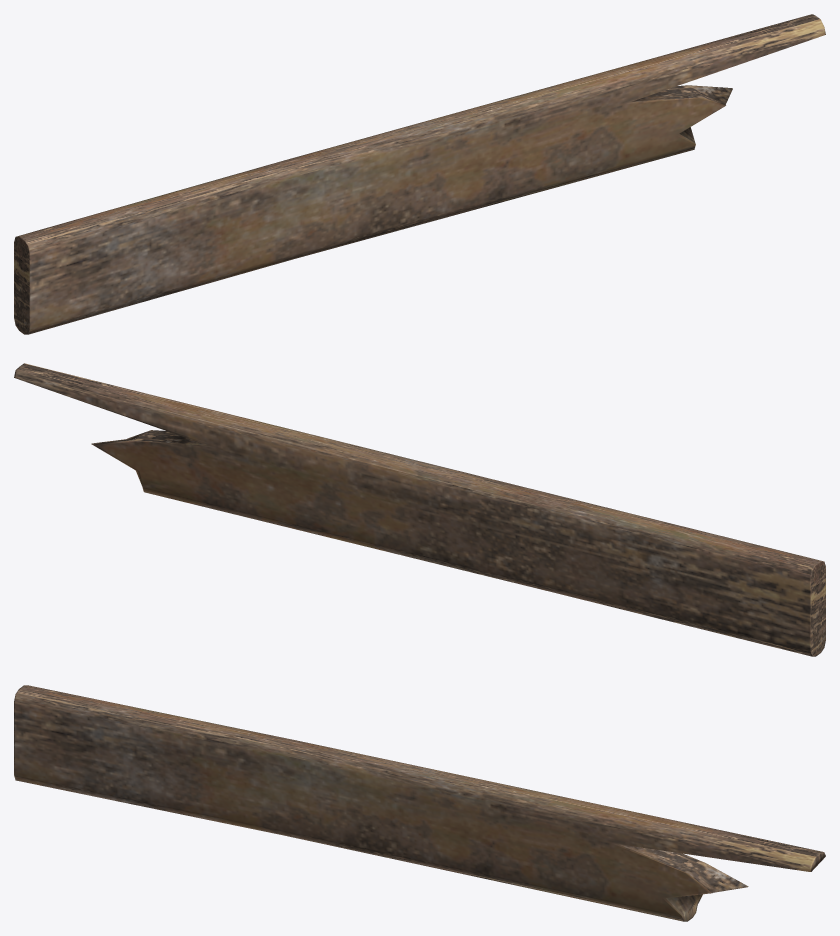
Rendered from WoodenBoard_Broken.fbx.
3 views of the same model, one above another, from view 1: azimuth 30°, elevation 25°; view 2: azimuth 150°, elevation 25°; view 3: azimuth 330°, elevation 25° (orthographic). The views are drawn at different scales.
Parts seen in each view (by area): view 1: WoodenBoard_Broken_LOD0; view 2: WoodenBoard_Broken_LOD0; view 3: WoodenBoard_Broken_LOD0.
Part boxes in pixels (x1,y1,x2,y2): WoodenBoard_Broken_LOD0: [14, 14, 825, 334]; WoodenBoard_Broken_LOD0: [14, 363, 825, 656]; WoodenBoard_Broken_LOD0: [14, 685, 825, 921].
Size of what is drawn, in the model's own units: 54.48 by 7.06 by 3.24.
